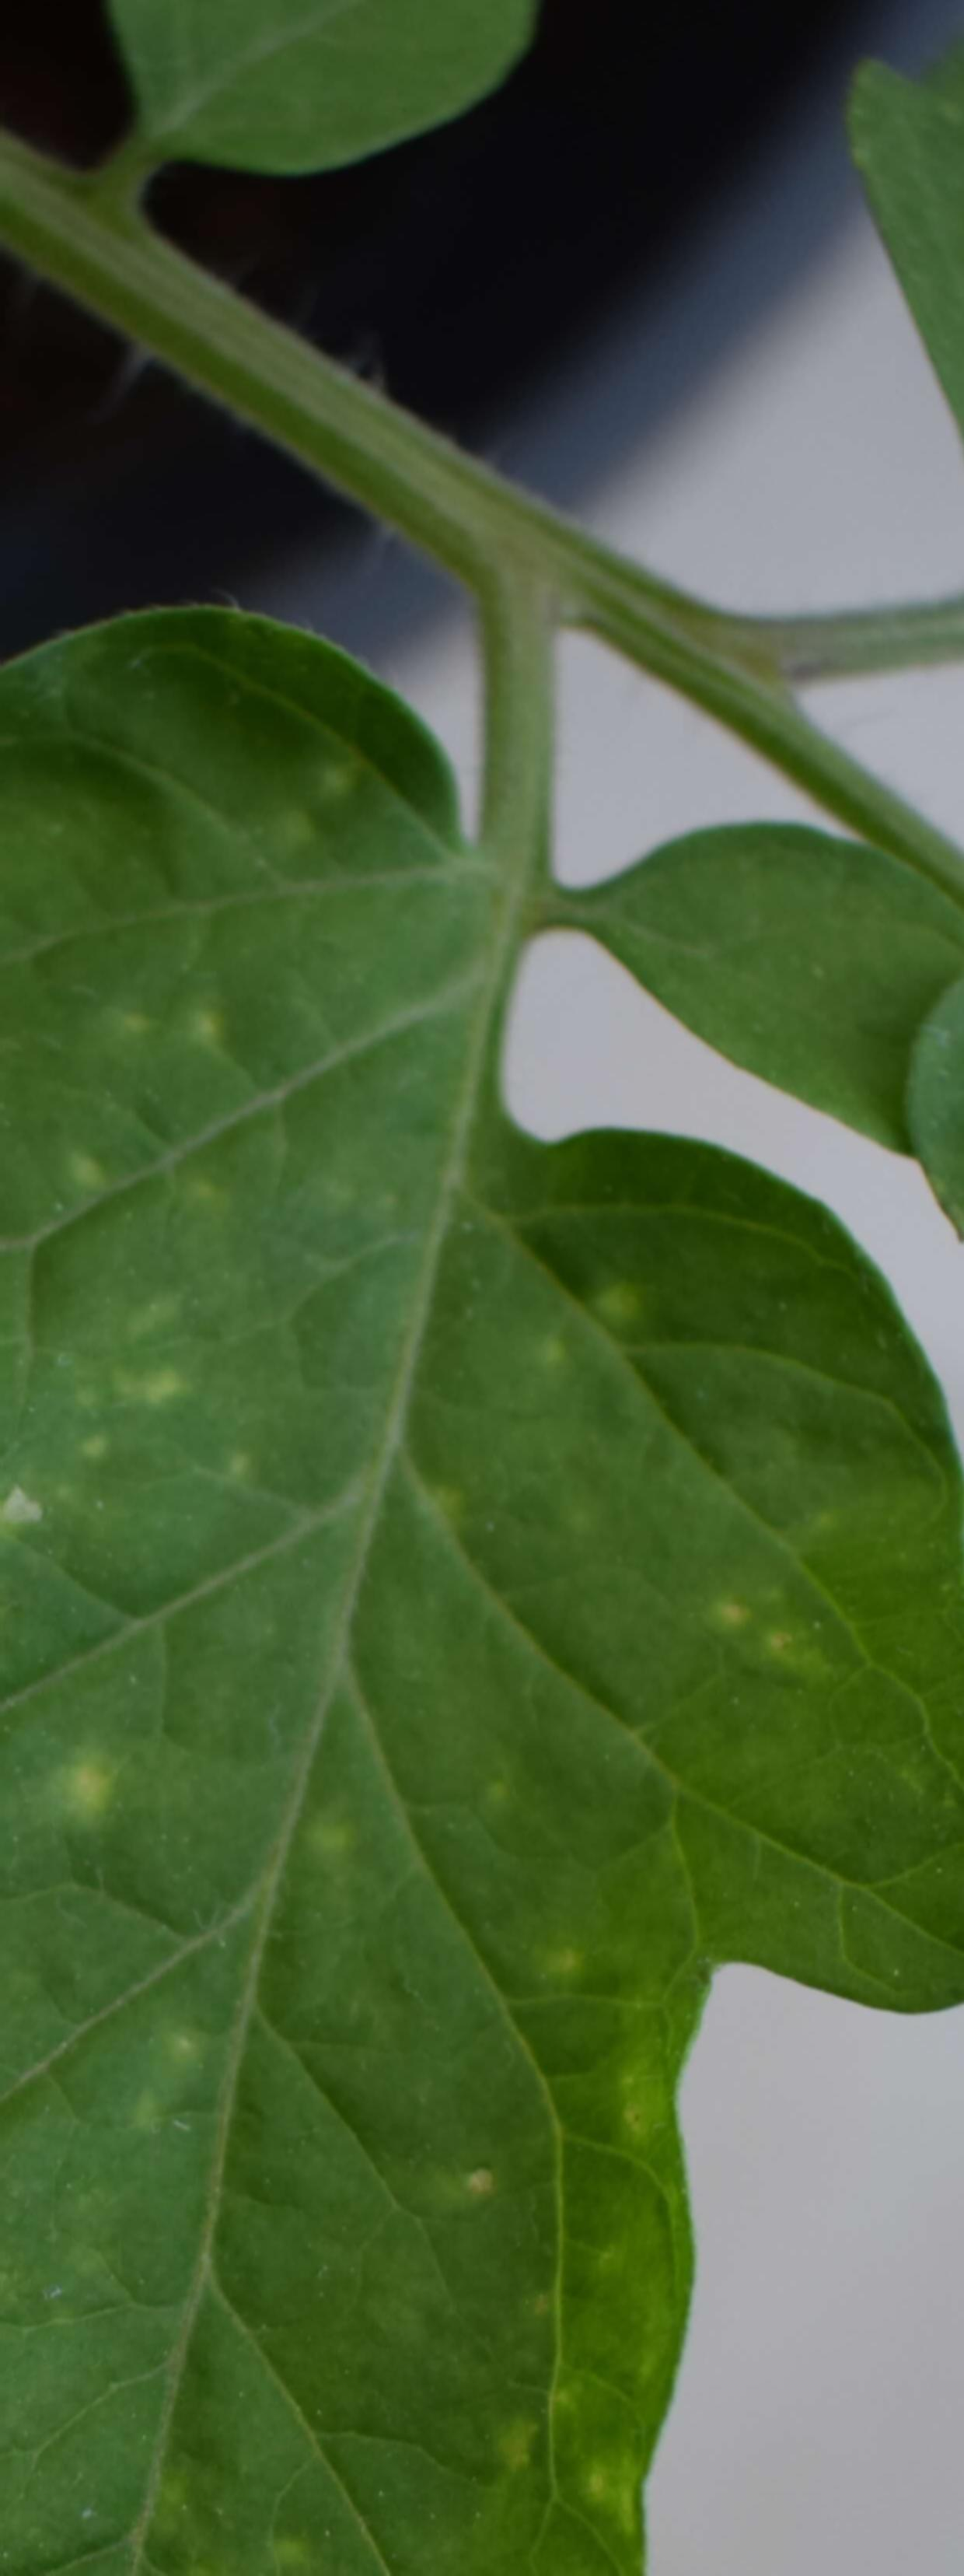Tomato mold leaf: (0, 625, 964, 2576)
